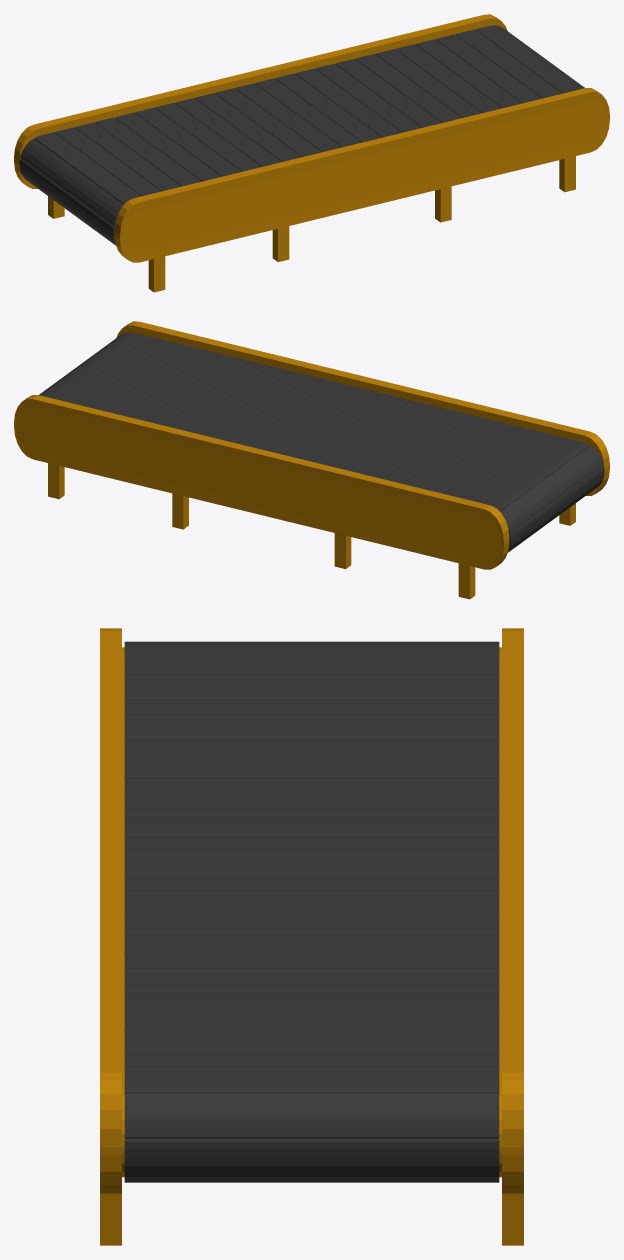
Rendered from ConveyorBelt.fbx.
3 renders of one model, top to bottom at view 1: azimuth 30°, elevation 25°; view 2: azimuth 150°, elevation 25°; view 3: azimuth 270°, elevation 25°, orthographic. The views are drawn at different scales.
Parts seen in each view (by area): view 1: Belt, corpus, nojka, nojka.001; view 2: Belt, corpus, nojka, nojka.001; view 3: Belt, corpus, nojka.
Boxes of the visible parts, <box> form: Belt: <box>19,25,584,245</box>; corpus: <box>14,14,609,262</box>; nojka: <box>48,156,575,292</box>; nojka.001: <box>272,186,451,261</box>; Belt: <box>39,332,604,552</box>; corpus: <box>14,321,609,569</box>; nojka: <box>48,463,575,599</box>; nojka.001: <box>172,493,351,568</box>; Belt: <box>124,641,499,1182</box>; corpus: <box>100,628,523,1195</box>; nojka: <box>100,1196,523,1245</box>.
Size of the model in its own units: 606 by 110 by 226.
